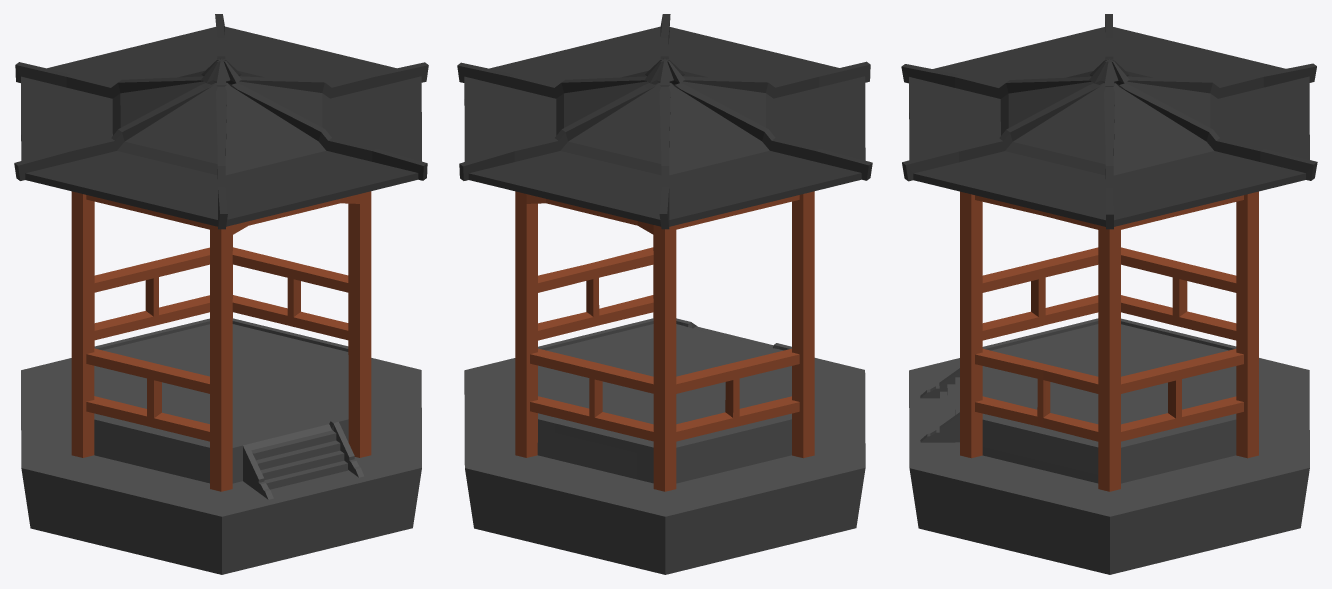
File: Shelter 1.fbx
3 renders of one model, left to right at view 1: azimuth 30°, elevation 25°; view 2: azimuth 150°, elevation 25°; view 3: azimuth 270°, elevation 25°, orthographic.
Visible parts, largest first — view 1: Cylinder, Cylinder.002, Cylinder.001; view 2: Cylinder, Cylinder.002, Cylinder.001; view 3: Cylinder, Cylinder.002, Cylinder.001.
Part boxes in pixels (x1,y1,x2,y2): Cylinder: [21, 318, 421, 574]; Cylinder.002: [14, 14, 428, 229]; Cylinder.001: [71, 191, 371, 491]; Cylinder: [464, 318, 865, 574]; Cylinder.002: [457, 14, 872, 229]; Cylinder.001: [515, 191, 814, 491]; Cylinder: [909, 318, 1309, 574]; Cylinder.002: [901, 14, 1317, 229]; Cylinder.001: [960, 191, 1258, 491].
Size of the model in its own units: 629 by 616 by 552.
